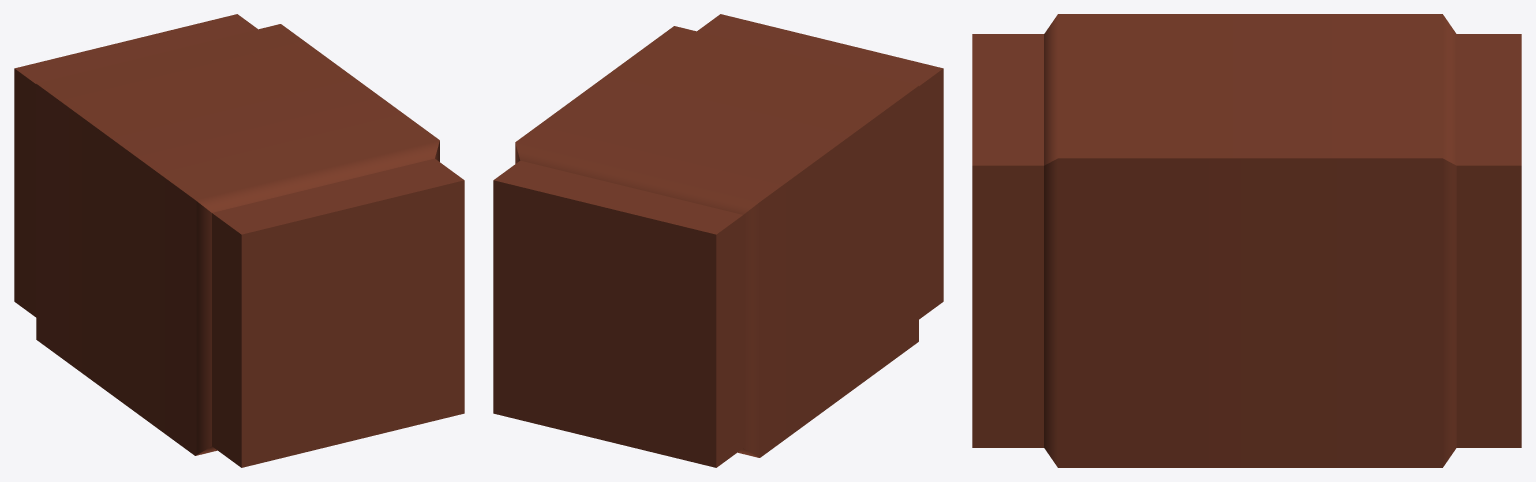
Rendered from MeatNew.fbx.
3 renders of one model, left to right at view 1: azimuth 30°, elevation 25°; view 2: azimuth 150°, elevation 25°; view 3: azimuth 270°, elevation 25°, orthographic. The views are drawn at different scales.
Parts seen in each view (by area): view 1: pCube5; view 2: pCube5; view 3: pCube5.
Boxes of the visible parts, <box> form: pCube5: <box>14,14,464,467</box>; pCube5: <box>493,14,943,467</box>; pCube5: <box>972,14,1521,467</box>.
Bounding box in the file's own units: 1.15 × 1.15 × 1.85.
